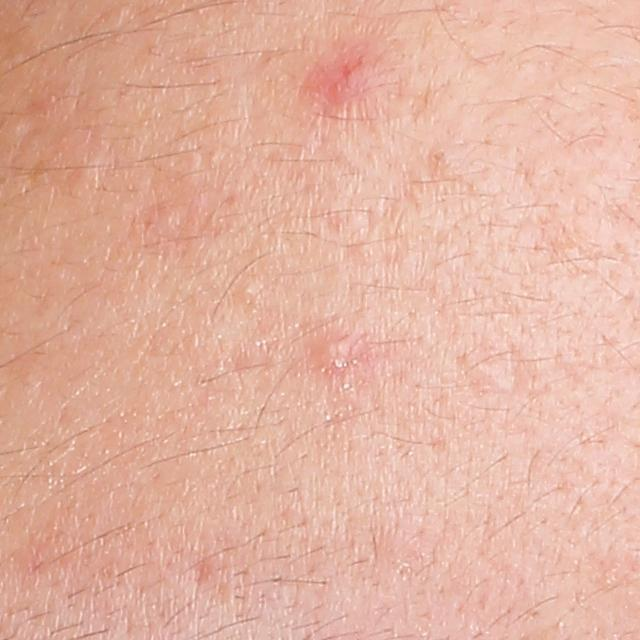comedo: (238, 285, 257, 305)
papule: (306, 48, 370, 103), (310, 330, 360, 377)
